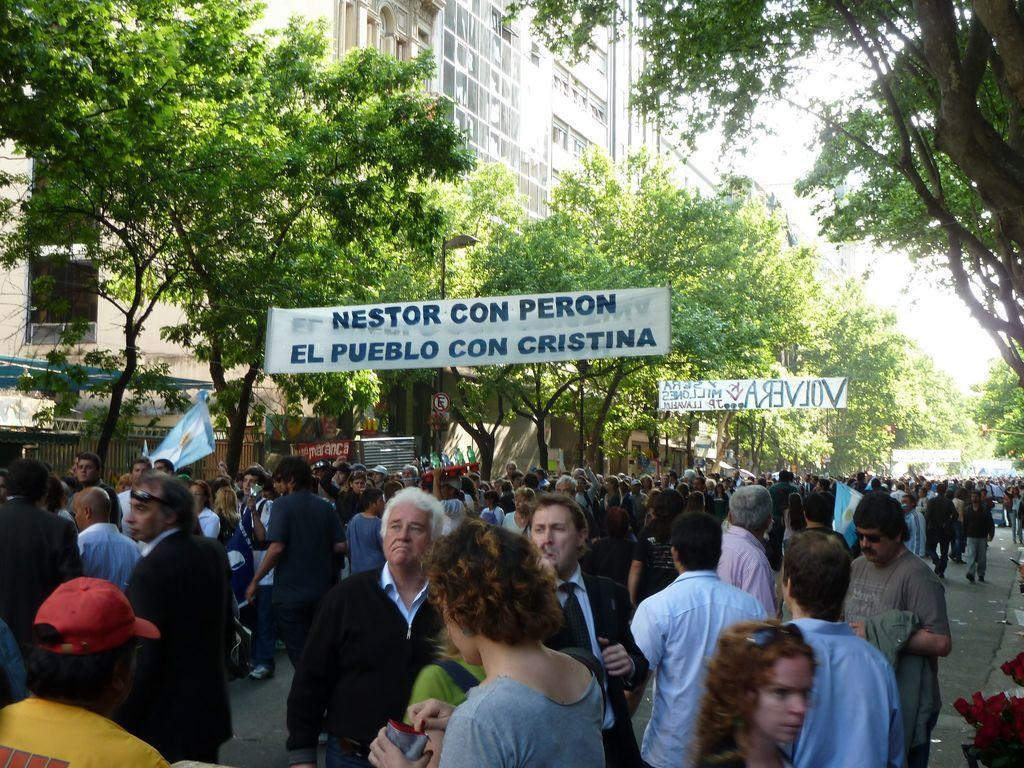Hat: (34, 577, 162, 656)
